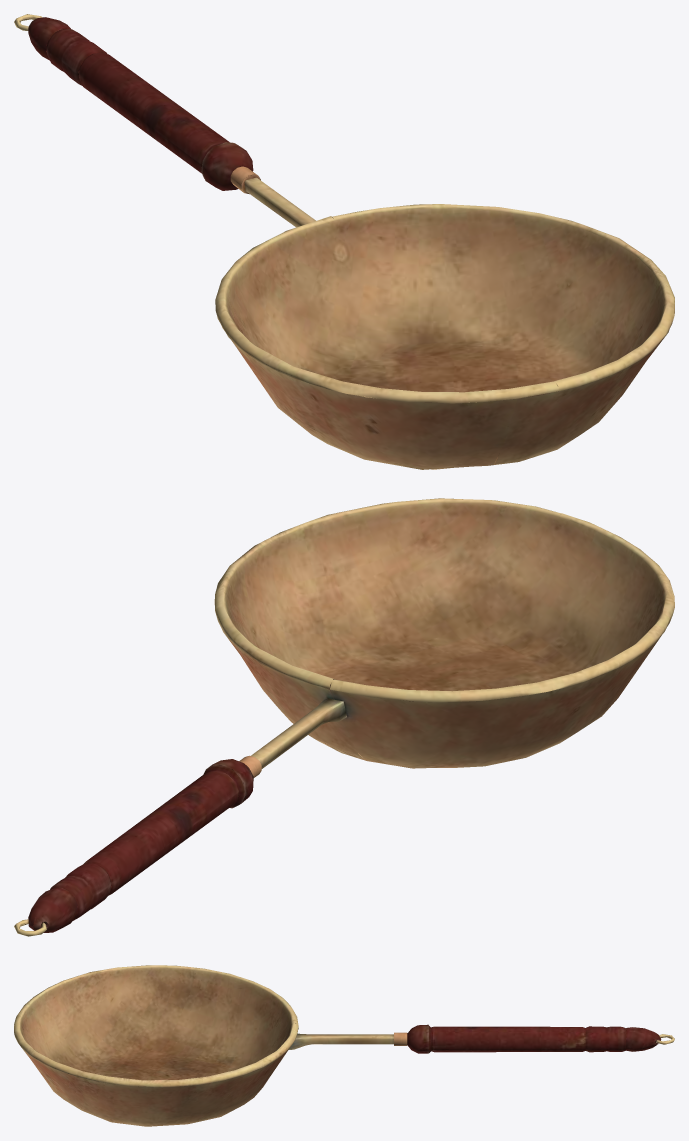
The model's file is prop_pan.glb.
3 views of the same model, one above another, from view 1: azimuth 30°, elevation 25°; view 2: azimuth 150°, elevation 25°; view 3: azimuth 270°, elevation 25° (orthographic). The views are drawn at different scales.
Parts seen in each view (by area): view 1: brass_pan_01; view 2: brass_pan_01; view 3: brass_pan_01.
Part boxes in pixels (<box>): brass_pan_01: <box>14,14,674,469</box>; brass_pan_01: <box>14,498,674,936</box>; brass_pan_01: <box>14,965,674,1126</box>.
Bounding box in the file's own units: 0.1932 × 0.053 × 0.4541.
Materials: 1 (1 with a texture image).
